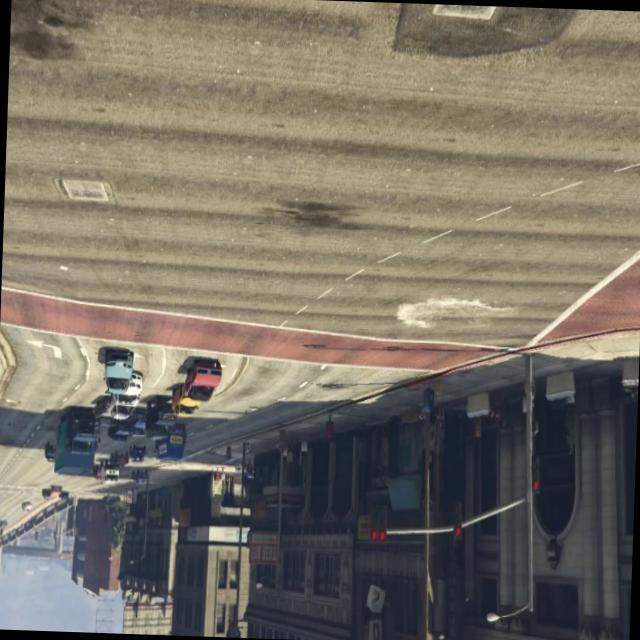Red-Signal: (362, 495, 393, 557), (448, 497, 472, 548), (526, 452, 548, 504)
